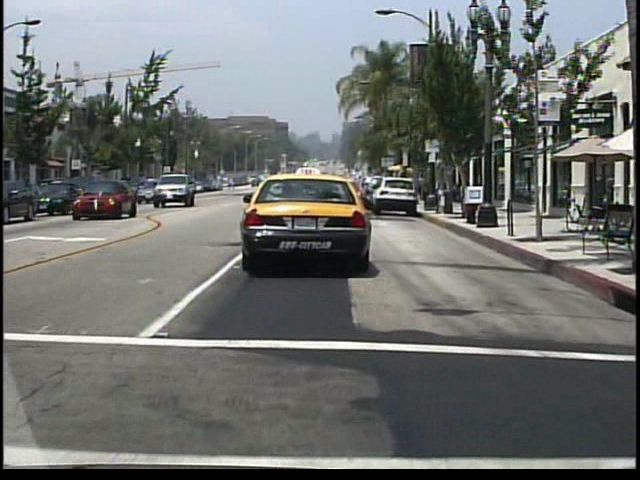person: (416, 174, 427, 199)
